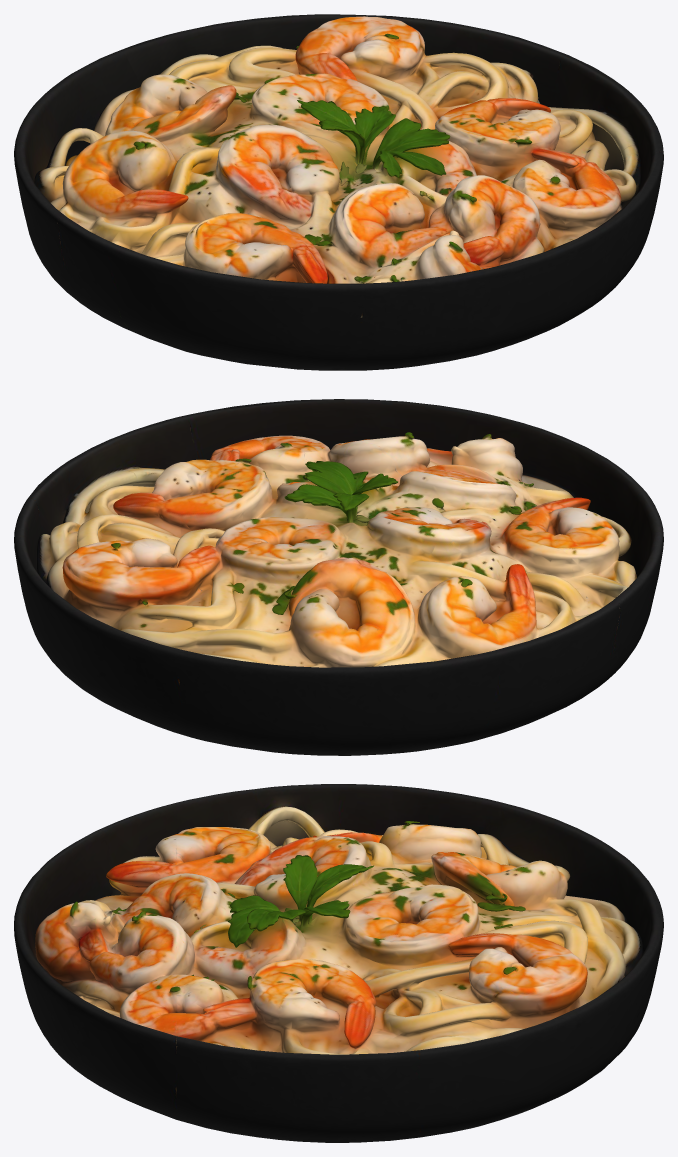
File: fettuccine-alfredo-camarao.glb
The picture shows the model from 3 angles, top to bottom: view 1: azimuth 30°, elevation 25°; view 2: azimuth 150°, elevation 25°; view 3: azimuth 270°, elevation 25°; orthographic projection.
Visible parts, largest first — view 1: world; view 2: world; view 3: world.
Part boxes in pixels (bbox=[...]): world: bbox=[14, 14, 663, 370]; world: bbox=[14, 399, 663, 755]; world: bbox=[14, 784, 663, 1142].
Bounding box in the file's own units: 0.23 × 0.0602 × 0.23.
Materials: 1 (1 with a texture image).
